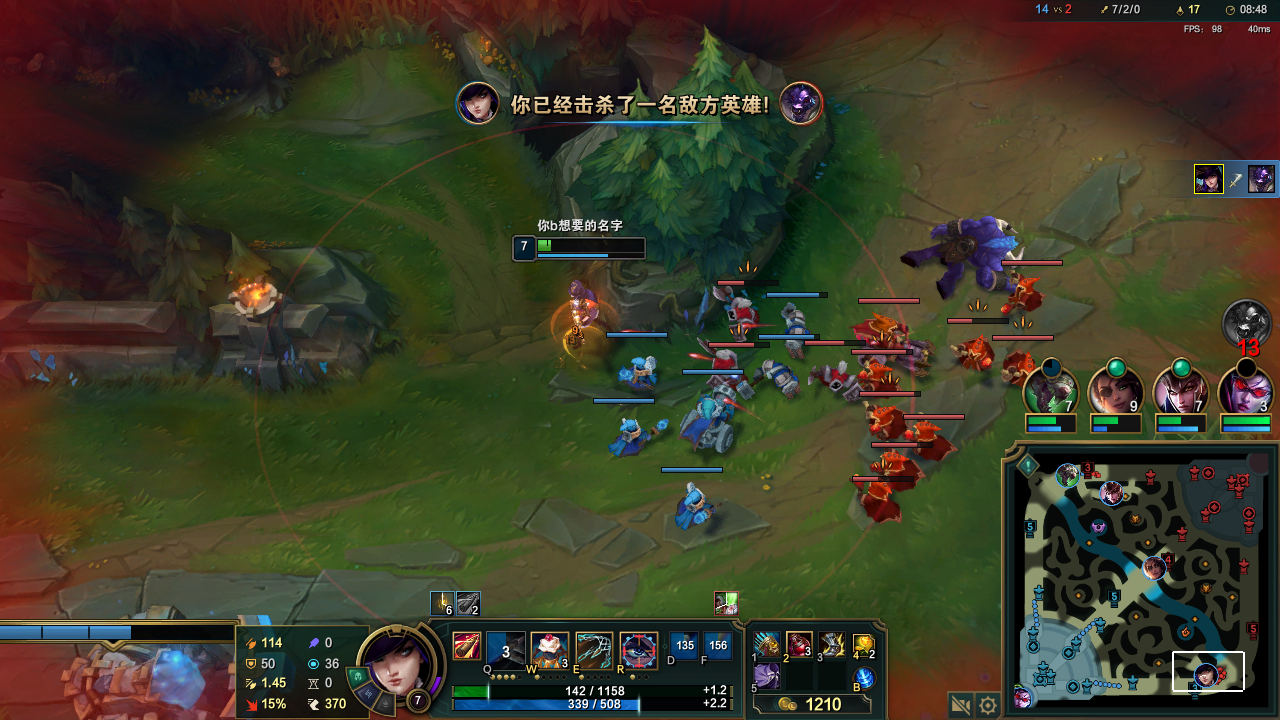DFXB: (859, 324, 928, 361), (864, 394, 909, 442), (877, 442, 916, 490), (859, 477, 902, 518), (905, 418, 950, 457), (953, 334, 988, 368), (859, 363, 897, 393), (710, 348, 744, 381), (818, 359, 849, 393), (1008, 283, 1042, 310), (1003, 353, 1032, 378), (731, 300, 756, 325)
WFXB: (686, 402, 736, 463), (669, 480, 714, 530), (769, 302, 815, 349), (612, 351, 660, 390), (609, 419, 665, 452), (764, 357, 794, 391)
